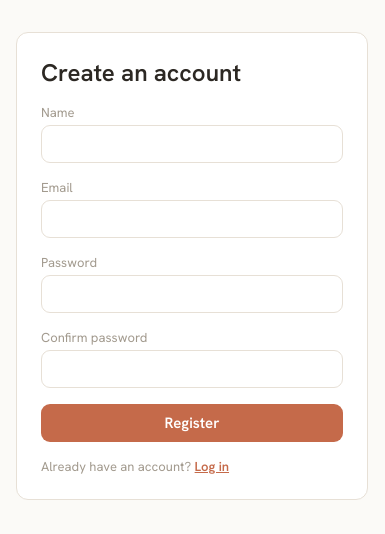
RegisterPage › shows an error when registration fails
The width and height of the screenshot is (385, 534).
In the field labelled "Name": (192, 144) left=41, top=125, right=343, bottom=163, type "Ada"
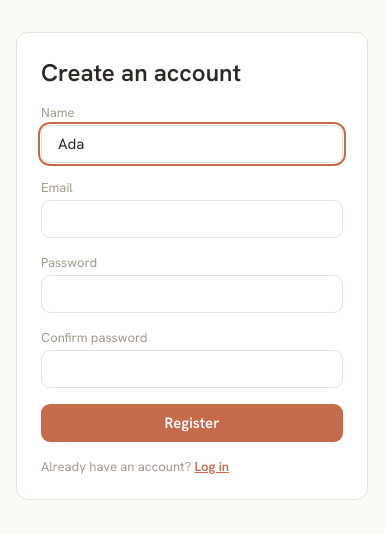
In the field labelled "Email": (192, 219) left=41, top=200, right=343, bottom=238, type "ada@example.com"
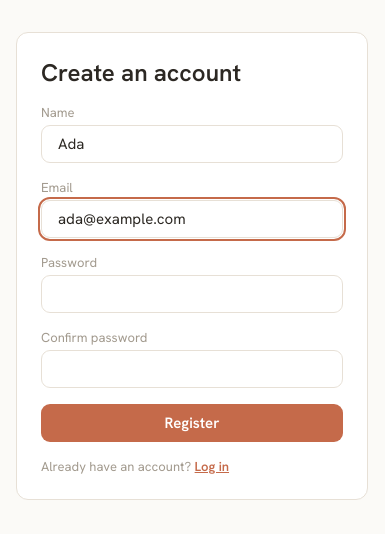
In the password field labelled "Password": (192, 294) left=41, top=275, right=343, bottom=313, type "secret"
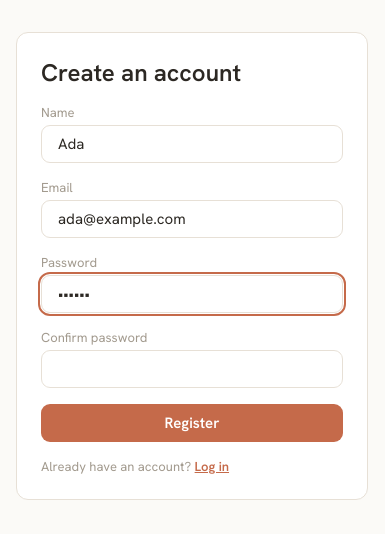
In the password field labelled "Confirm password": (192, 369) left=41, top=350, right=343, bottom=388, type "secret"
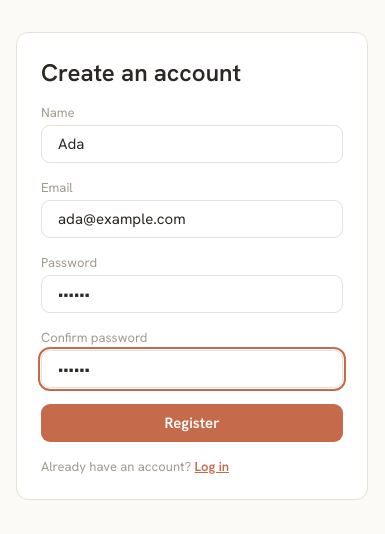
Click the button "Register": (192, 423) left=41, top=404, right=343, bottom=442
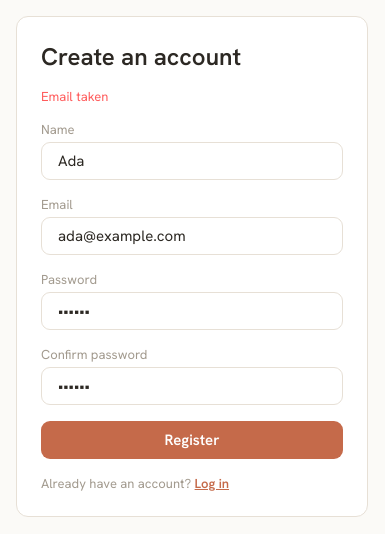
Expected: the text "Email taken" is shown, left=41, top=88, right=108, bottom=104
